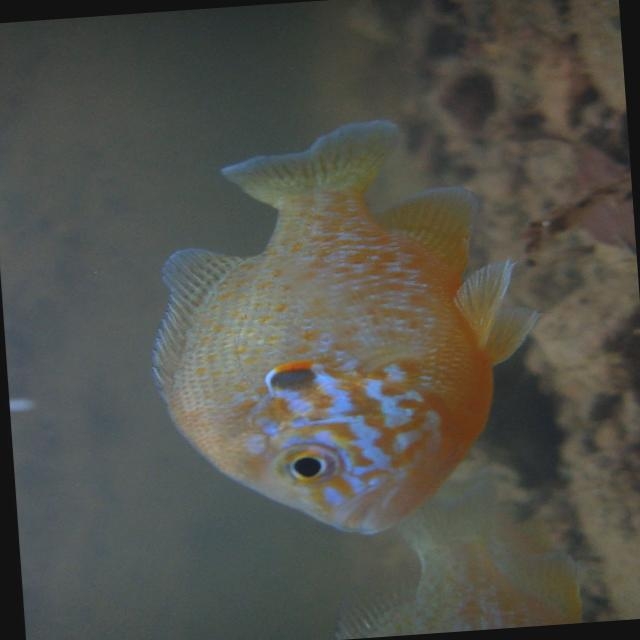Gunes Levregi: (130, 106, 559, 550)
